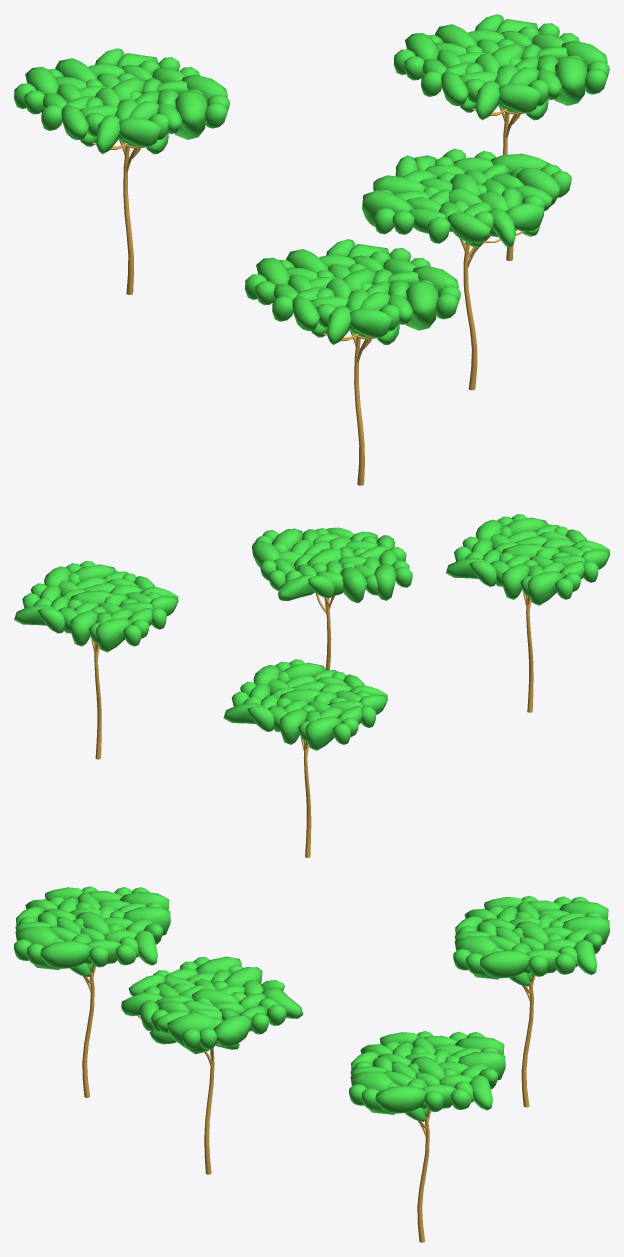
Rendered from tree.glb.
The picture shows the model from 3 angles, top to bottom: view 1: azimuth 30°, elevation 25°; view 2: azimuth 150°, elevation 25°; view 3: azimuth 270°, elevation 25°; orthographic projection. The views are drawn at different scales.
Visible parts, largest first — view 1: tree_leaves.002, tree_leaves.001, tree_leaves.003, tree_leaves, tree trunk.003, tree trunk.002, tree trunk; view 2: tree_leaves.001, tree_leaves.002, tree_leaves.003, tree_leaves, tree trunk.002, tree trunk.001, tree trunk.003; view 3: tree_leaves, tree_leaves.002, tree_leaves.003, tree_leaves.001, tree trunk.001, tree trunk.003, tree trunk.002, tree trunk.
Boxes of the visible parts, x1=… form: tree_leaves.002: x1=14, y1=48, x2=229, y2=154; tree_leaves.001: x1=393, y1=14, x2=609, y2=120; tree_leaves.003: x1=245, y1=239, x2=460, y2=344; tree_leaves: x1=362, y1=149, x2=571, y2=247; tree trunk.003: x1=323, y1=323, x2=408, y2=485; tree trunk.002: x1=92, y1=132, x2=177, y2=294; tree trunk: x1=459, y1=231, x2=525, y2=390; tree_leaves.001: x1=14, y1=561, x2=178, y2=652; tree_leaves.002: x1=223, y1=659, x2=387, y2=750; tree_leaves.003: x1=446, y1=514, x2=609, y2=605; tree_leaves: x1=252, y1=527, x2=412, y2=603; tree trunk.002: x1=301, y1=737, x2=311, y2=857; tree trunk.001: x1=91, y1=639, x2=101, y2=759; tree trunk.003: x1=523, y1=592, x2=533, y2=712; tree_leaves: x1=121, y1=956, x2=303, y2=1054; tree_leaves.002: x1=453, y1=895, x2=609, y2=986; tree_leaves.003: x1=14, y1=886, x2=170, y2=977; tree_leaves.001: x1=349, y1=1031, x2=505, y2=1121; tree trunk.001: x1=417, y1=1109, x2=431, y2=1242; tree trunk.003: x1=82, y1=965, x2=95, y2=1097; tree trunk.002: x1=521, y1=974, x2=535, y2=1107; tree trunk: x1=137, y1=1015, x2=220, y2=1174.
Bounding box in the file's own units: 67.8 × 27.16 × 80.05.
